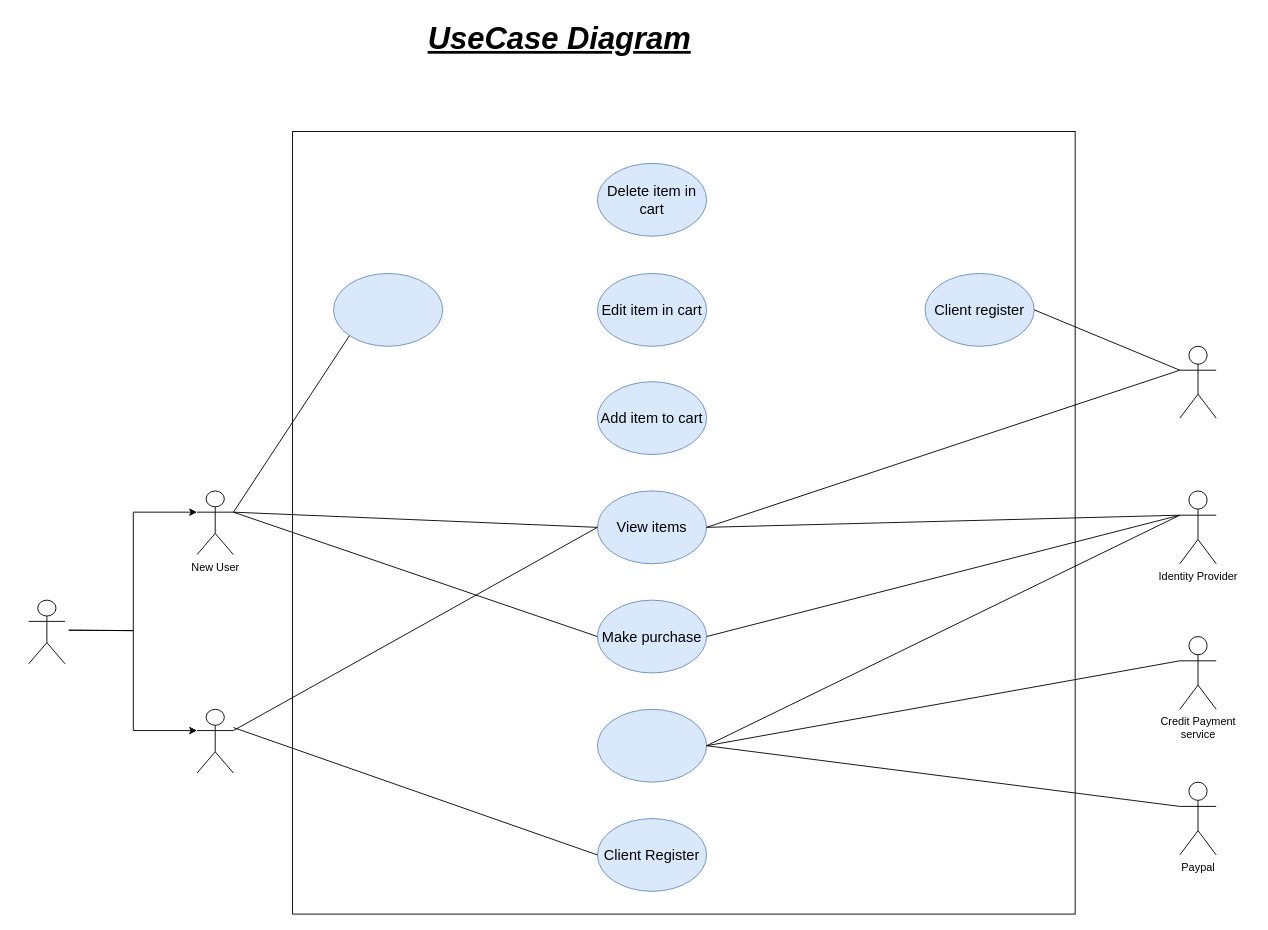
This 1268x930 diagram has some shape labels left out. The shapes that lost their labels are listed below. From the top down, each one's centre as x and y in pixels, then its label:
At point (388, 309): "Manage Cart".
At point (1197, 381): "Service Authentication".
At point (46, 631): "CUSTOMER".
At point (214, 740): "Existing User".
At point (652, 745): "Ceckout".
